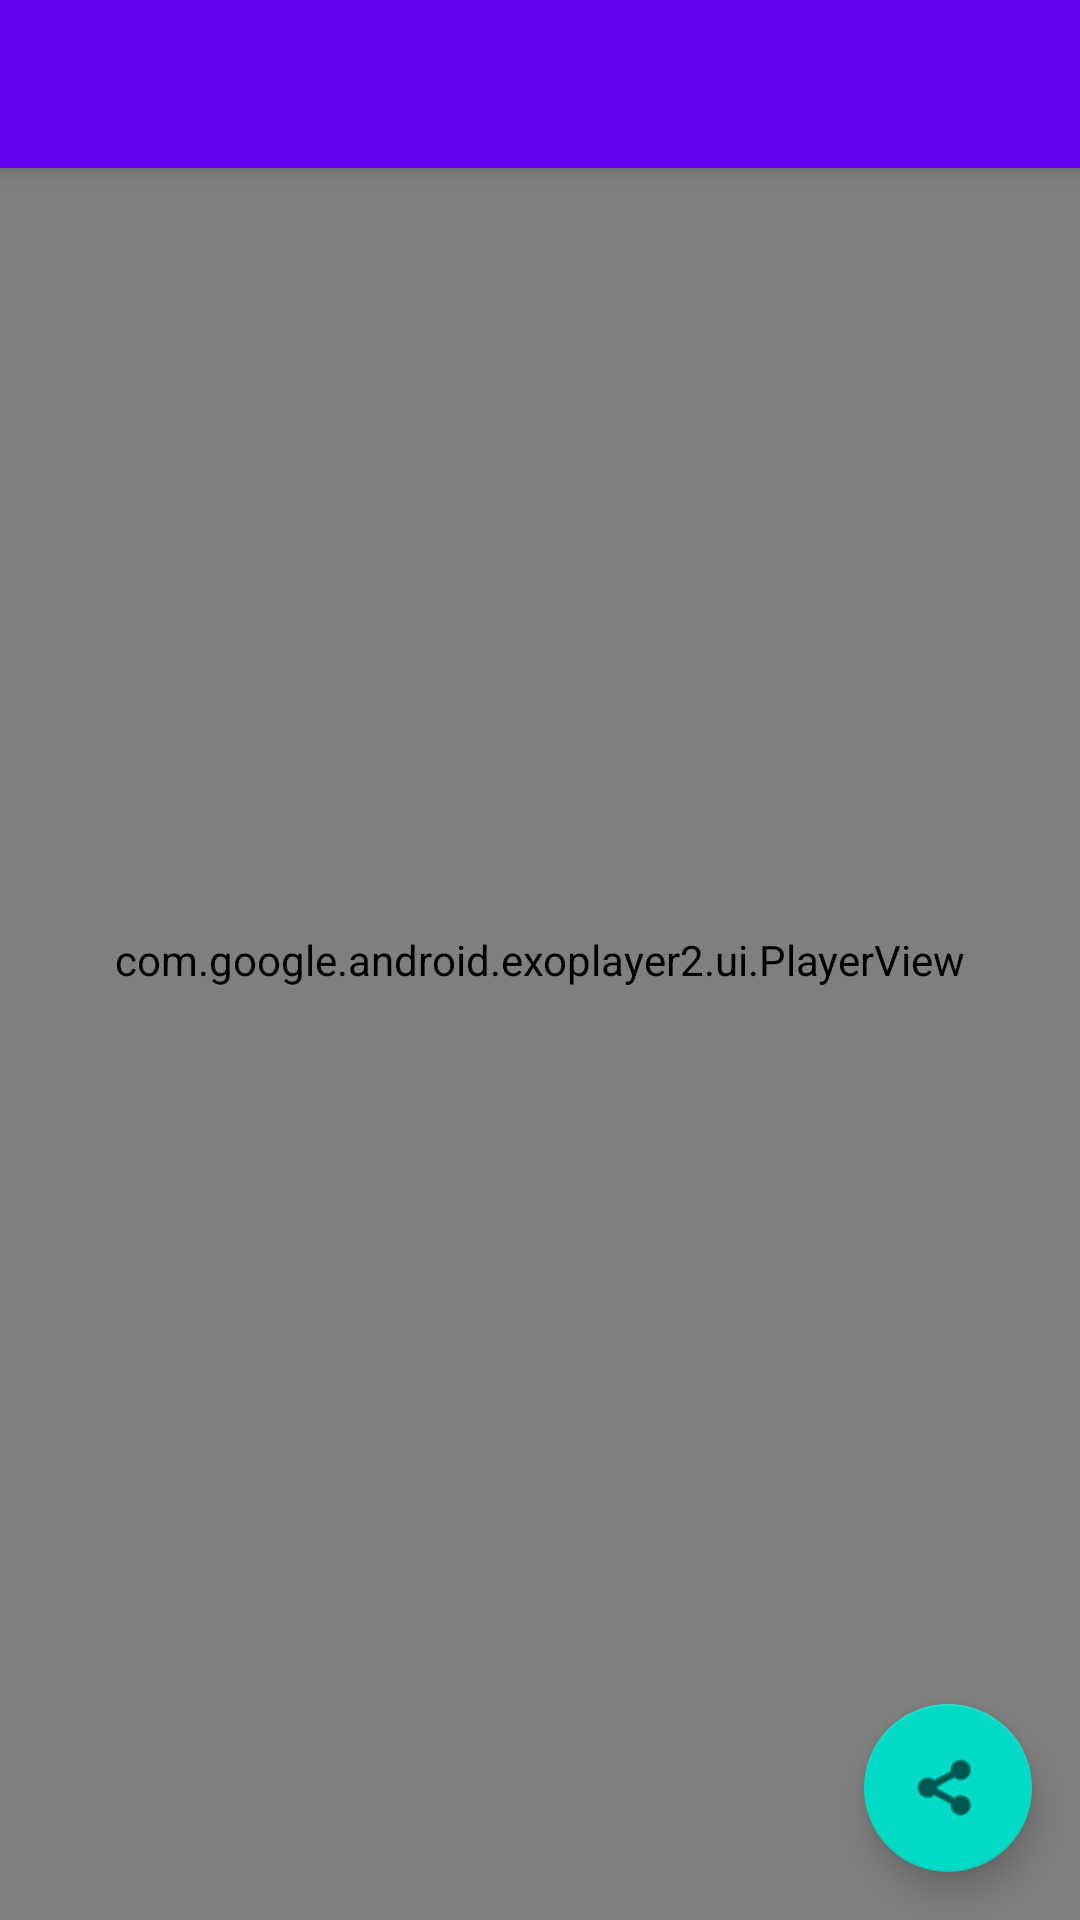

Screen size 1080 × 1920. Icon name, then its center in pixels as (x,y):
share: (948,1788)
